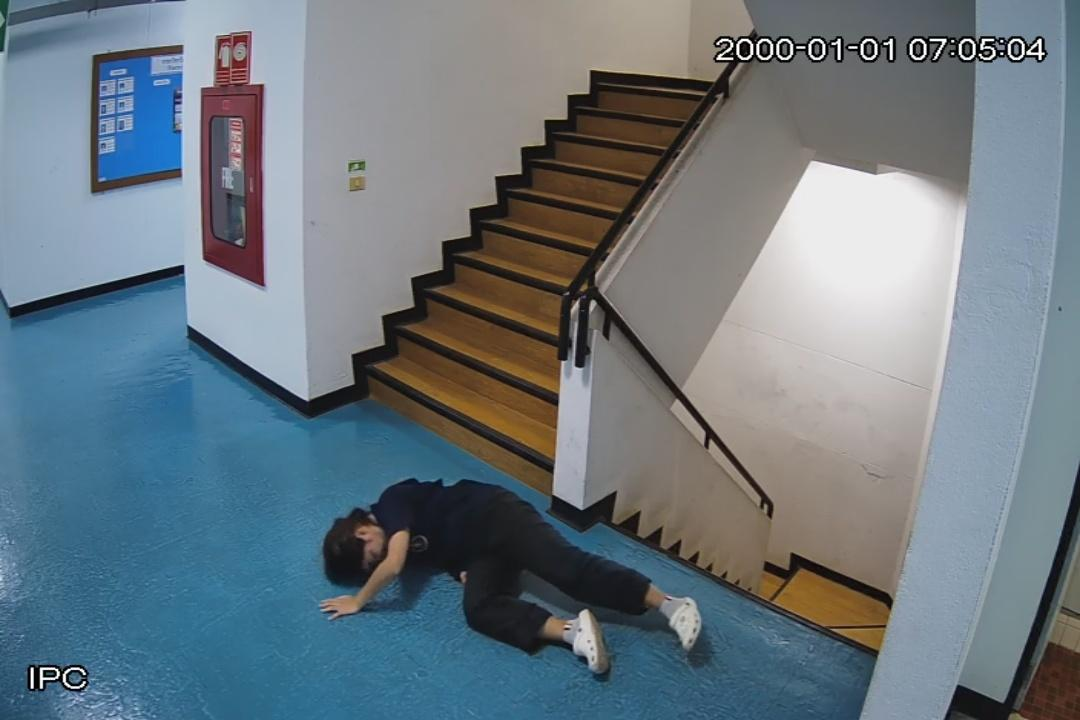fall: (312, 474, 714, 680)
